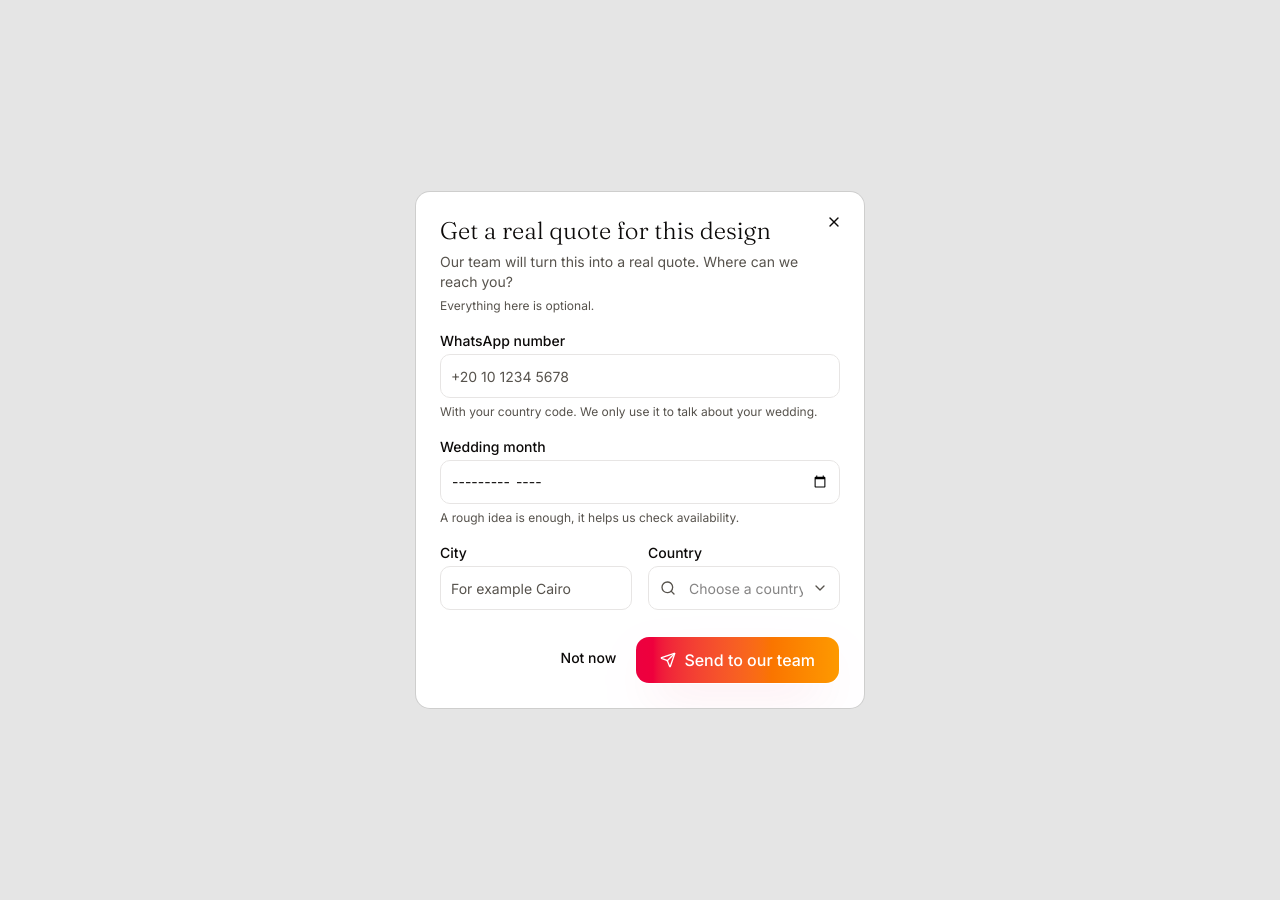
Scenario: ApproveDesignDialog › says the team already had it when the design was approved before
The width and height of the screenshot is (1280, 900).
What coordinates should you click on to do the following:
click the button "Send to our team"
I would click on:
 (738, 660)
Its box is left=635, top=636, right=840, bottom=684.
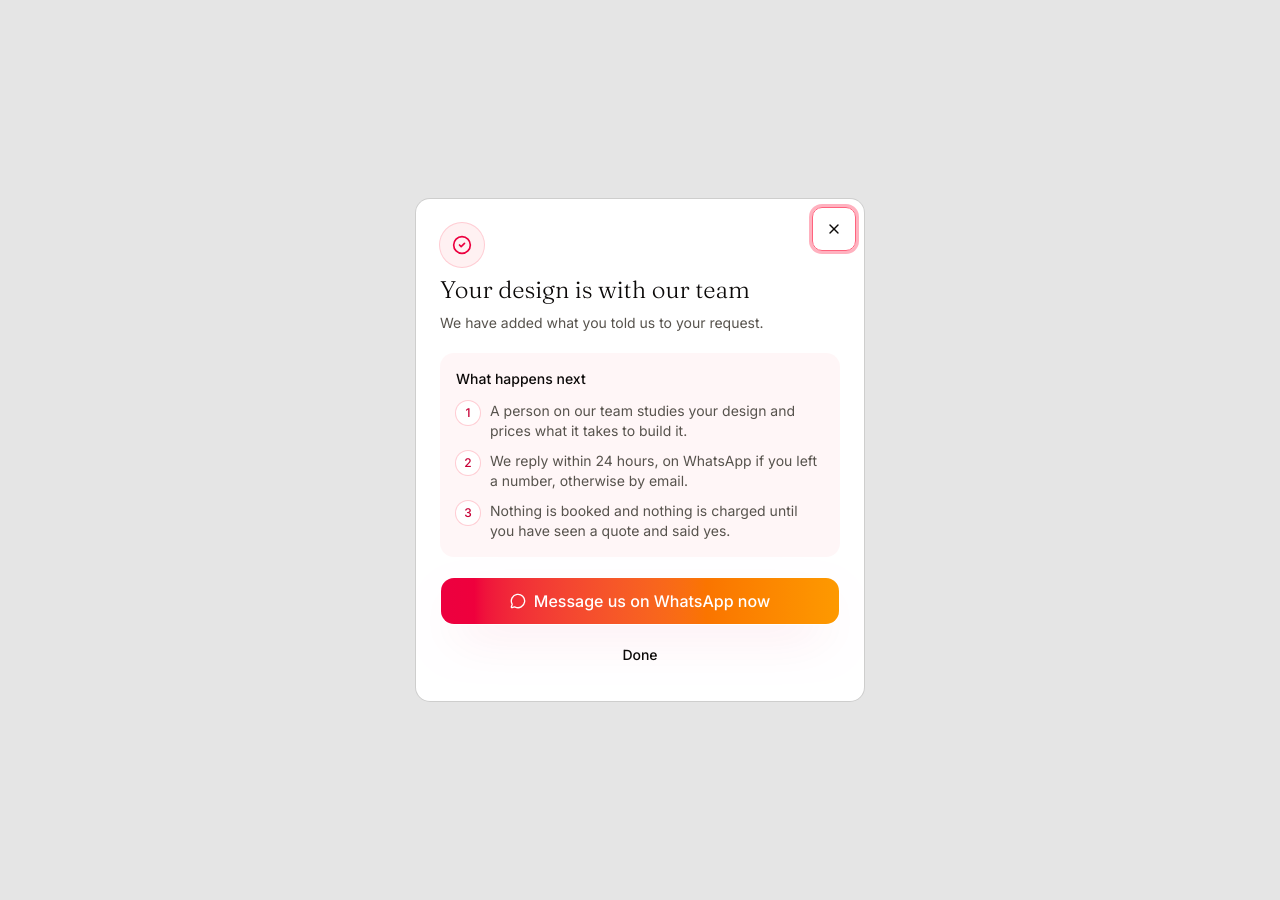
Expected: the text "We have added what you told us to your request." is shown, left=440, top=313, right=808, bottom=333
